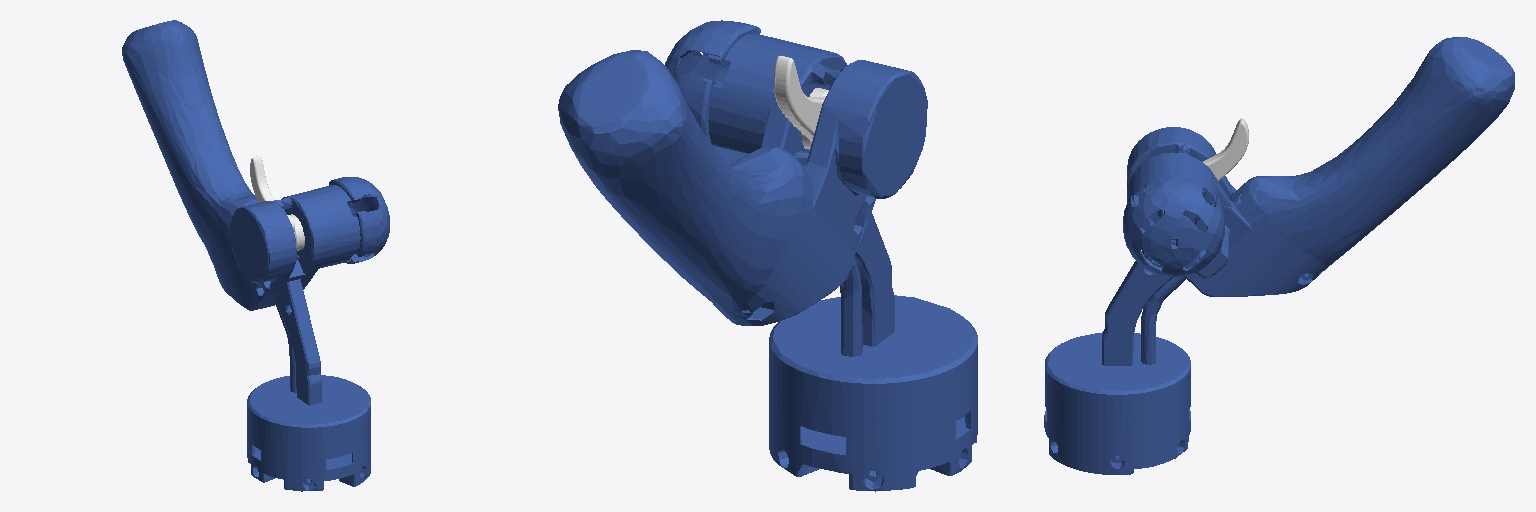
The robot description file, URDF, robot "yam_teaching_handle":
<?xml version="1.0"?>
<!-- Generated from yam_teaching_handle.xml by i2rt/robot_models/scripts/mjcf_to_urdf.py. Edit the
     MJCF and re-run the script instead of editing this file. The root link `gripper` is the arm's
     `gripper` mount link, so these links sit on an arm URDF's `gripper` link as is. -->
<robot name="yam_teaching_handle">
    <link name="gripper">
        <inertial>
            <origin xyz="0.0018575 0.0418629284 0.0716470266" rpy="0 0 0" />
            <mass value="0.252595" />
            <inertia ixx="0.00105352001" ixy="1.06201479e-05" ixz="-6.82284665e-06" iyy="0.000563736039" iyz="-0.000397546648" izz="0.000586304954" />
        </inertial>
        <visual>
            <origin xyz="-0.0106413 0.1392684 0.120275271" rpy="2.35620119 0 0" />
            <geometry>
                <mesh filename="assets/handle.stl" />
            </geometry>
            <material name="rgba_0.301961_0.427451_0.701961_1">
                <color rgba="0.301961 0.427451 0.701961 1" />
            </material>
        </visual>
    </link>
    <link name="tcp_site" />
    <joint name="tcp_site_joint" type="fixed">
        <origin xyz="-0.000490393 0.130087748 0.162836674" rpy="0 0 0" />
        <parent link="gripper" />
        <child link="tcp_site" />
    </joint>
    <joint name="gripper" type="revolute">
        <origin xyz="1e-05 0.0233540146 0.0987584372" rpy="2.35620119 0 0" />
        <parent link="gripper" />
        <child link="trigger" />
        <axis xyz="1 0 0" />
        <limit effort="1" velocity="1" lower="-0.680678" upper="0" />
    </joint>
    <link name="trigger">
        <inertial>
            <origin xyz="-1.91766e-09 -0.000646924 -0.00511405" rpy="0 0 0" />
            <mass value="0.0049991" />
            <inertia ixx="6.5772e-07" ixy="0" ixz="0" iyy="7.0782999e-07" iyz="-5.49021439e-08" izz="2.3019501e-07" />
        </inertial>
        <visual>
            <origin xyz="-0.0106913 -0.0680085 -0.0984379" rpy="0 0 0" />
            <geometry>
                <mesh filename="assets/trigger.stl" />
            </geometry>
            <material name="rgba_0.94902_0.94902_0.94902_1">
                <color rgba="0.94902 0.94902 0.94902 1" />
            </material>
        </visual>
    </link>
</robot>

--- What the picture shows (computed from the rendered views, not written in the file) ---
The picture shows the robot from 3 angles, left to right: view 1: azimuth 30°, elevation 25°; view 2: azimuth 150°, elevation 25°; view 3: azimuth 270°, elevation 25°; orthographic projection.
Model yam_teaching_handle with 3 links and 2 joints (1 revolute, 1 fixed), rooted at gripper, posed all joints at 0.
Links seen in each view (by area): view 1: gripper, trigger; view 2: gripper, trigger; view 3: gripper, trigger.
Link boxes in pixels (x1,y1,x2,y2): gripper: (122, 20, 389, 491); trigger: (250, 156, 304, 250); gripper: (558, 20, 977, 491); trigger: (774, 56, 828, 149); gripper: (1044, 37, 1514, 474); trigger: (1203, 118, 1248, 180).
Bounding box of the posed robot: 0.0791 × 0.1829 × 0.1734 m (x, y, z).
2 mesh visuals loaded from 2 distinct referenced files (2 binary STL).
